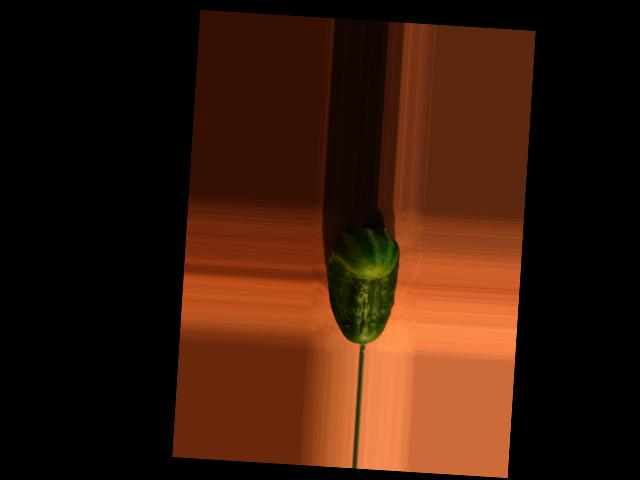cucumber: (323, 225, 402, 346)
